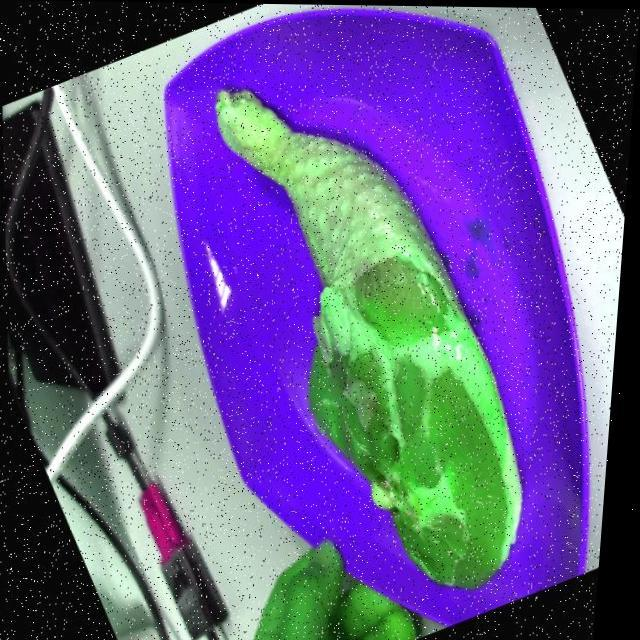quater: (188, 77, 550, 584)
